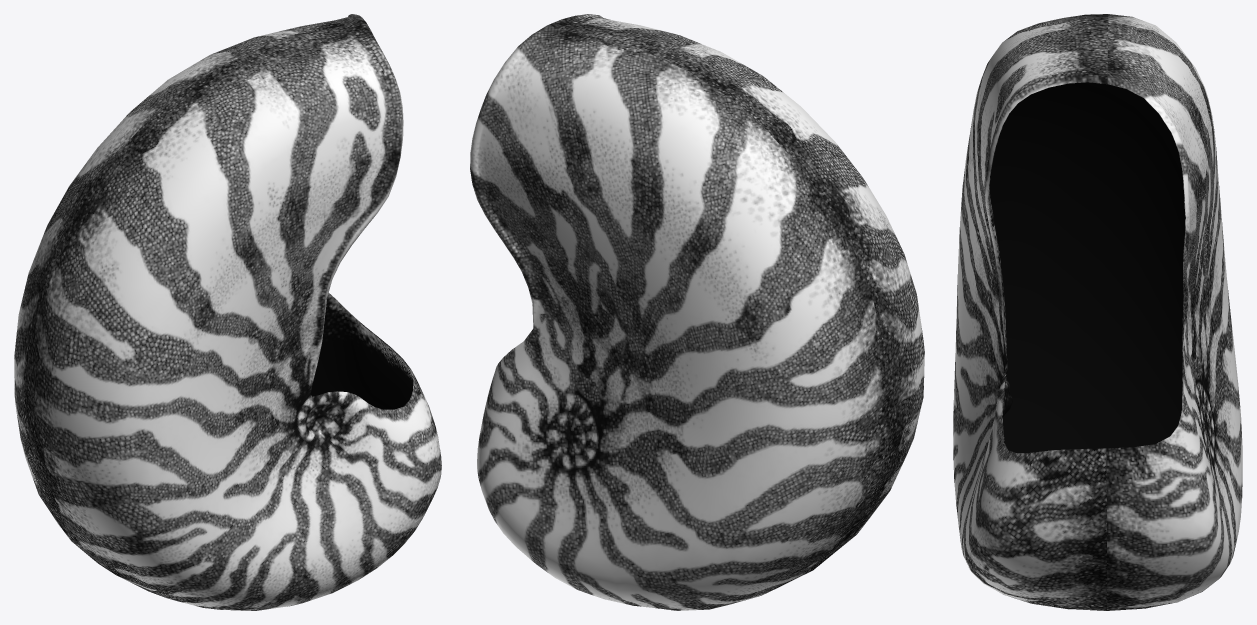
File: LinearSpin.fbx
The picture shows the model from 3 angles, left to right: view 1: azimuth 30°, elevation 25°; view 2: azimuth 150°, elevation 25°; view 3: azimuth 270°, elevation 25°; orthographic projection. The views are drawn at different scales.
Parts seen in each view (by area): view 1: KominJeong_Shell02_LinearSpin; view 2: KominJeong_Shell02_LinearSpin; view 3: KominJeong_Shell02_LinearSpin.
Boxes of the visible parts, <box> form: KominJeong_Shell02_LinearSpin: <box>14,14,441,610</box>; KominJeong_Shell02_LinearSpin: <box>470,14,924,610</box>; KominJeong_Shell02_LinearSpin: <box>953,14,1242,610</box>.
Bounding box in the file's own units: 16.72 × 22.27 × 10.3.
1 material, 1 textured.
